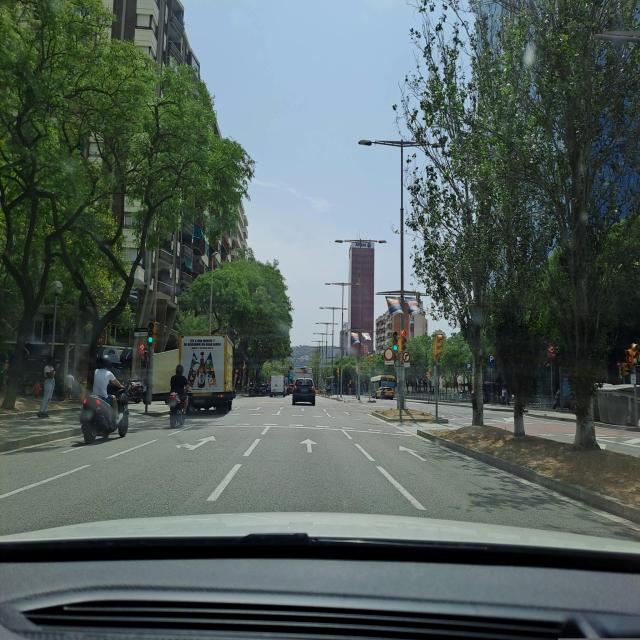bike: (79, 382, 130, 444), (168, 390, 187, 428)
car: (292, 376, 316, 406), (376, 386, 396, 399), (259, 382, 269, 396)
